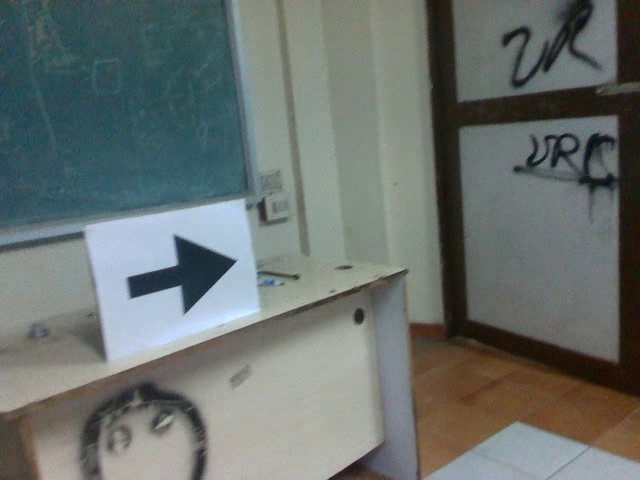Right: (122, 228, 238, 315)
